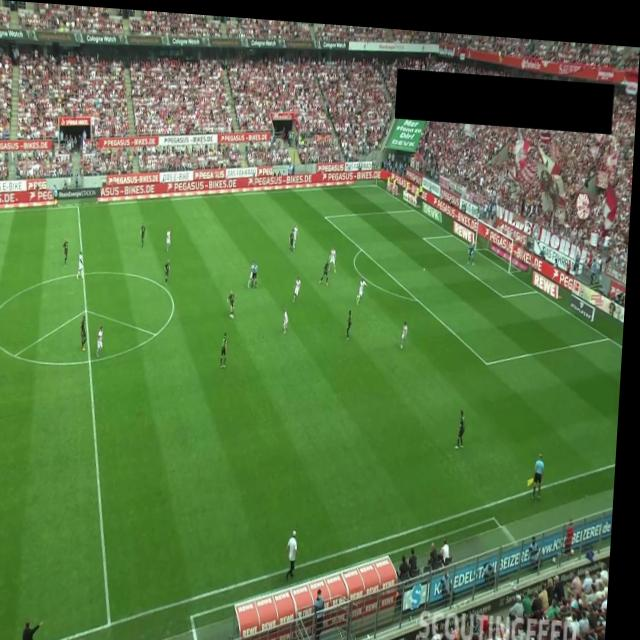goalkeeper: (469, 233, 478, 257)
player: (460, 401, 471, 441), (321, 255, 334, 281), (224, 327, 233, 364), (360, 271, 371, 299), (79, 249, 89, 278), (84, 313, 92, 349), (100, 323, 109, 355), (231, 286, 241, 313), (250, 257, 260, 284), (331, 241, 341, 267), (296, 271, 305, 299), (349, 304, 356, 334), (294, 220, 302, 246), (285, 304, 293, 330), (65, 237, 72, 266), (404, 314, 411, 343), (166, 256, 174, 281), (291, 223, 298, 251), (143, 220, 149, 246), (168, 226, 174, 249)
referee: (538, 444, 551, 492), (254, 256, 262, 284), (54, 184, 62, 206)
